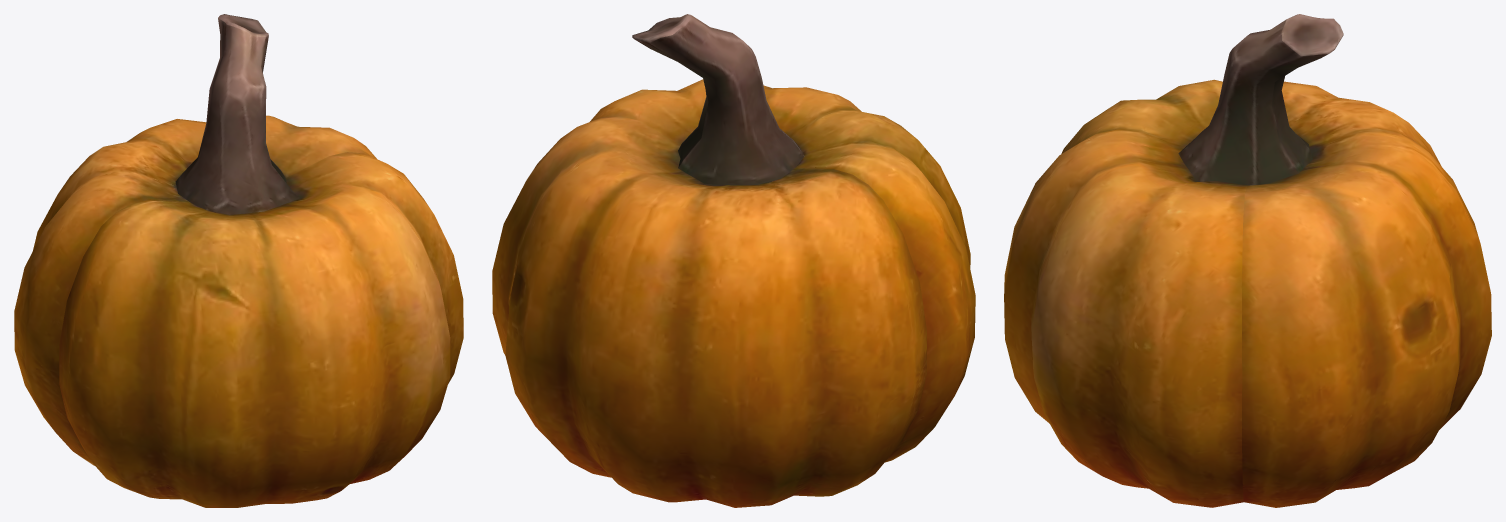
3 views of the same model, side by side, from view 1: azimuth 30°, elevation 25°; view 2: azimuth 150°, elevation 25°; view 3: azimuth 270°, elevation 25° (orthographic). The views are drawn at different scales.
Visible parts, largest first — view 1: SM_Pumpkin_01v1_LOD0; view 2: SM_Pumpkin_01v1_LOD0; view 3: SM_Pumpkin_01v1_LOD0.
Boxes of the visible parts, x1,y1,x2,y2 form: SM_Pumpkin_01v1_LOD0: (14,14,463,507); SM_Pumpkin_01v1_LOD0: (492,14,975,507); SM_Pumpkin_01v1_LOD0: (1004,14,1491,507).
Bounding box in the file's own units: 0.7492 × 0.7758 × 0.766.
Materials: 1 (1 with a texture image).
